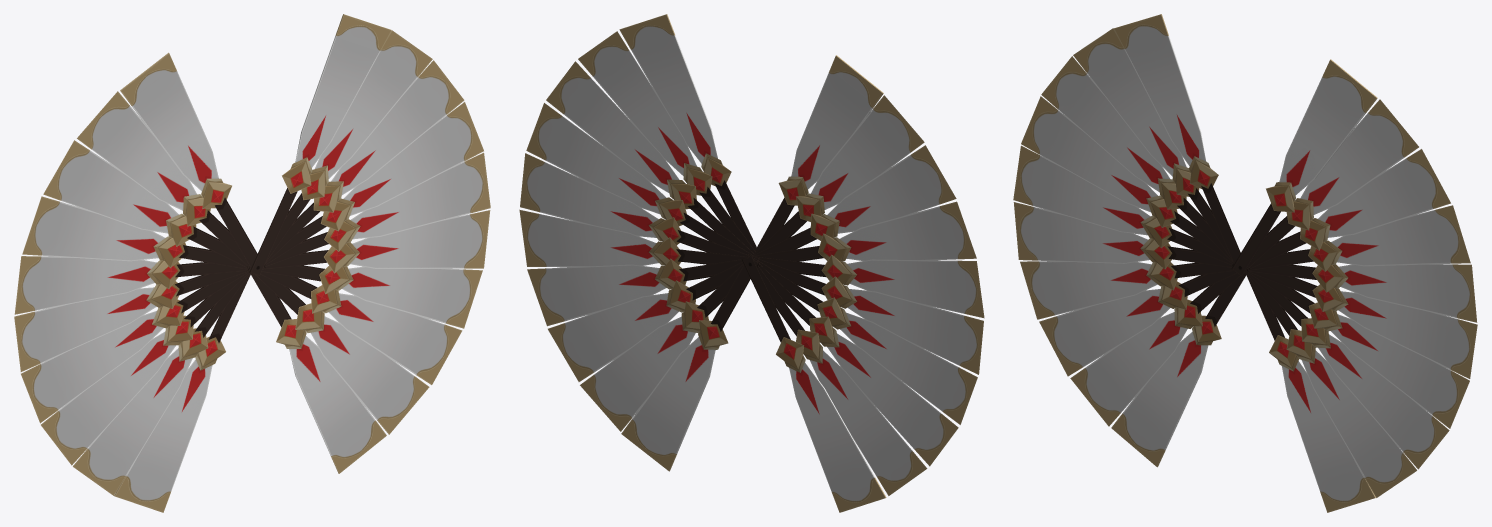
File: wp_fan_nlv60.fbx
3 renders of one model, left to right at view 1: azimuth 30°, elevation 25°; view 2: azimuth 150°, elevation 25°; view 3: azimuth 330°, elevation 25°, orthographic.
Visible parts, largest first — view 1: wp_fan_nlv60_02, wp_fan_nlv60_01; view 2: wp_fan_nlv60_01, wp_fan_nlv60_02; view 3: wp_fan_nlv60_01, wp_fan_nlv60_02.
Boxes of the visible parts, <box> form: wp_fan_nlv60_02: <box>14,52,265,512</box>; wp_fan_nlv60_01: <box>246,14,490,473</box>; wp_fan_nlv60_01: <box>519,14,760,471</box>; wp_fan_nlv60_02: <box>741,55,984,512</box>; wp_fan_nlv60_01: <box>1231,59,1477,512</box>; wp_fan_nlv60_02: <box>1013,14,1249,467</box>.
Bounding box in the file's own units: 103 × 96.08 × 2.95.
